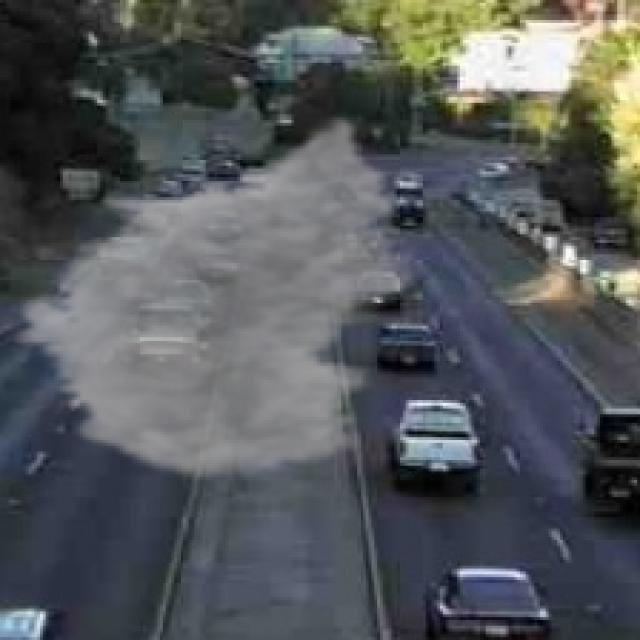Smoke: (2, 111, 428, 483)
